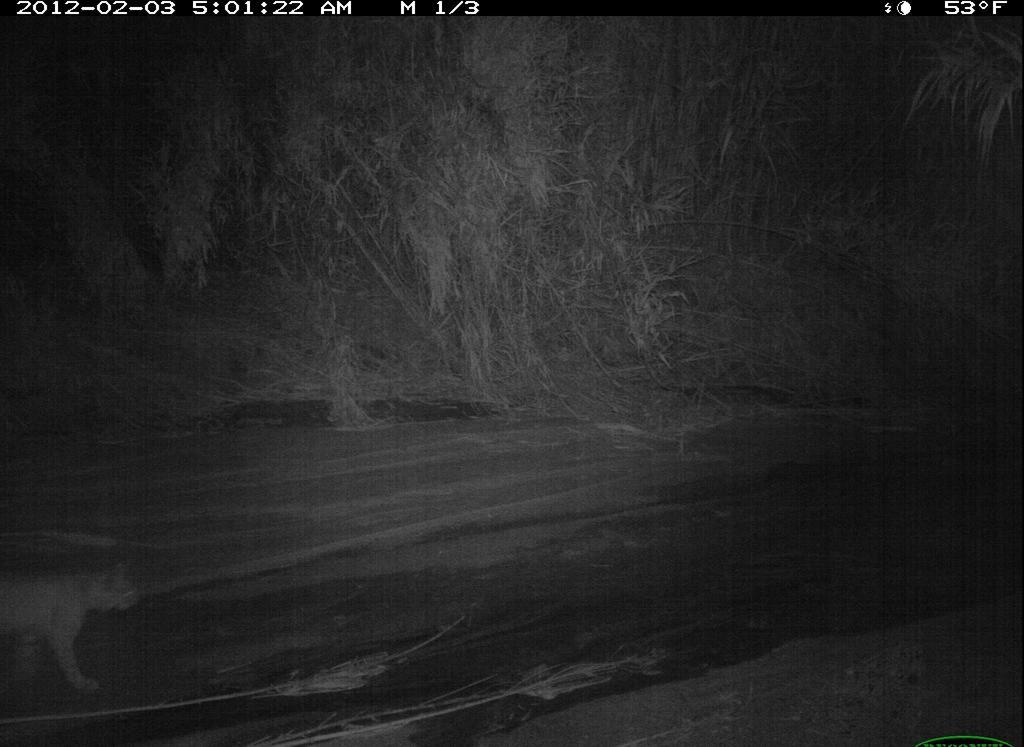bobcat: (9, 543, 153, 703)
